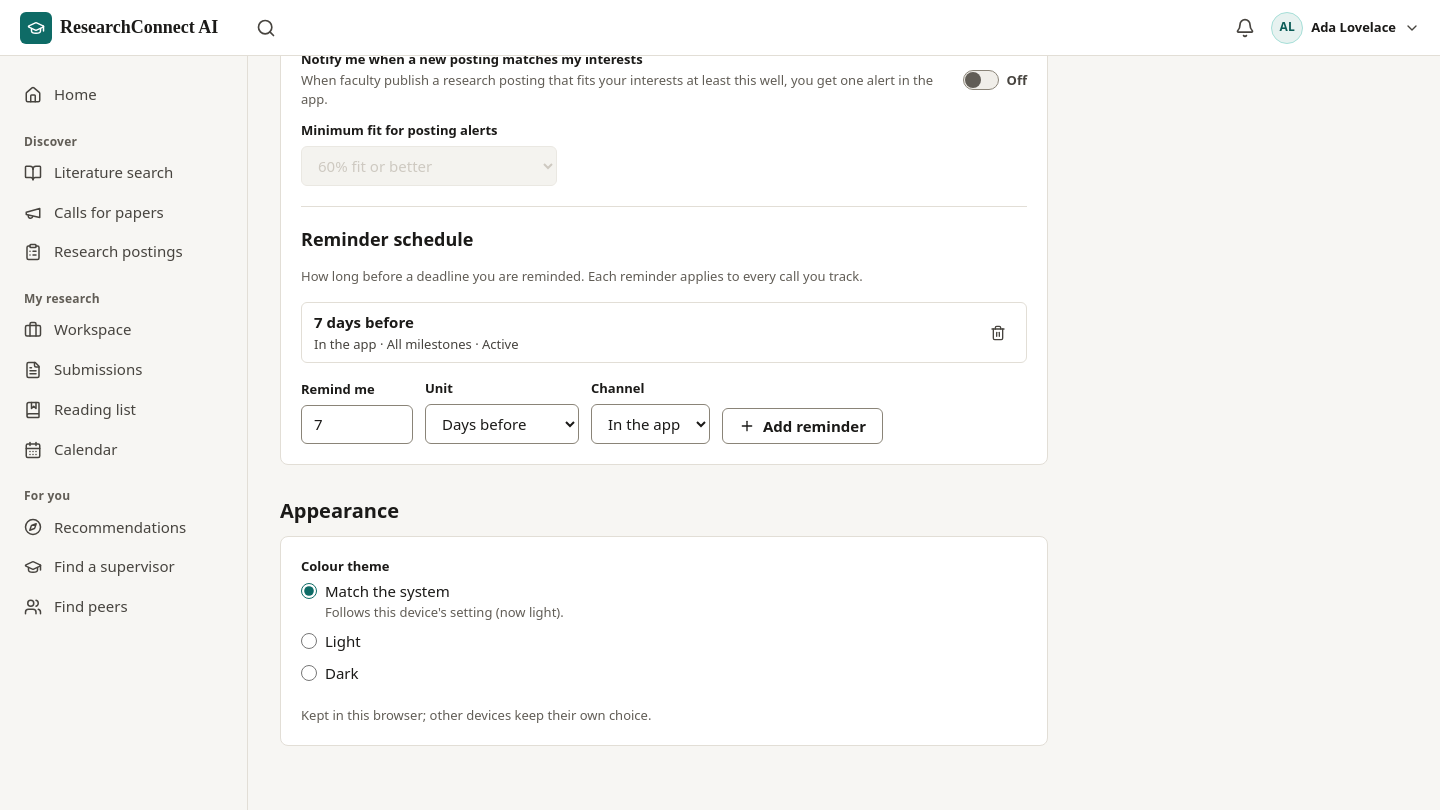
Test: appearance › applies light and dark at once, keeps the choice, and the account menu shows it
(page scrolled)
Check: the radio button labelled "Match the system Follows this device's setting (now light)." is checked, box 301,583 -> 317,599
Click the radio button labelled "Dark" at (309, 673), box 301,665 -> 317,681
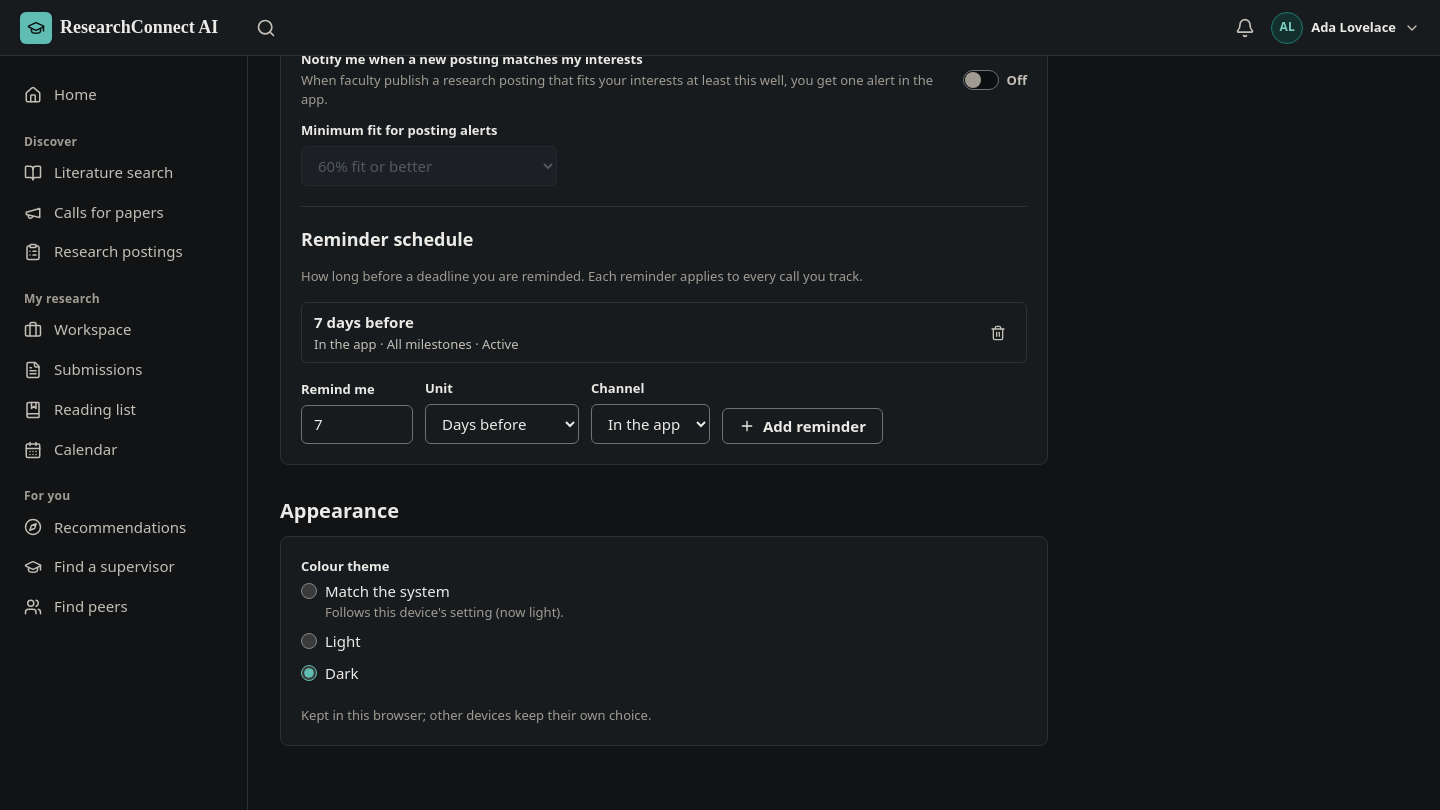
Note: The account menu's switch (mounted, closed) follows.
Click the button with aria-label "account menu" at (1346, 28), box 1267,10 -> 1424,46
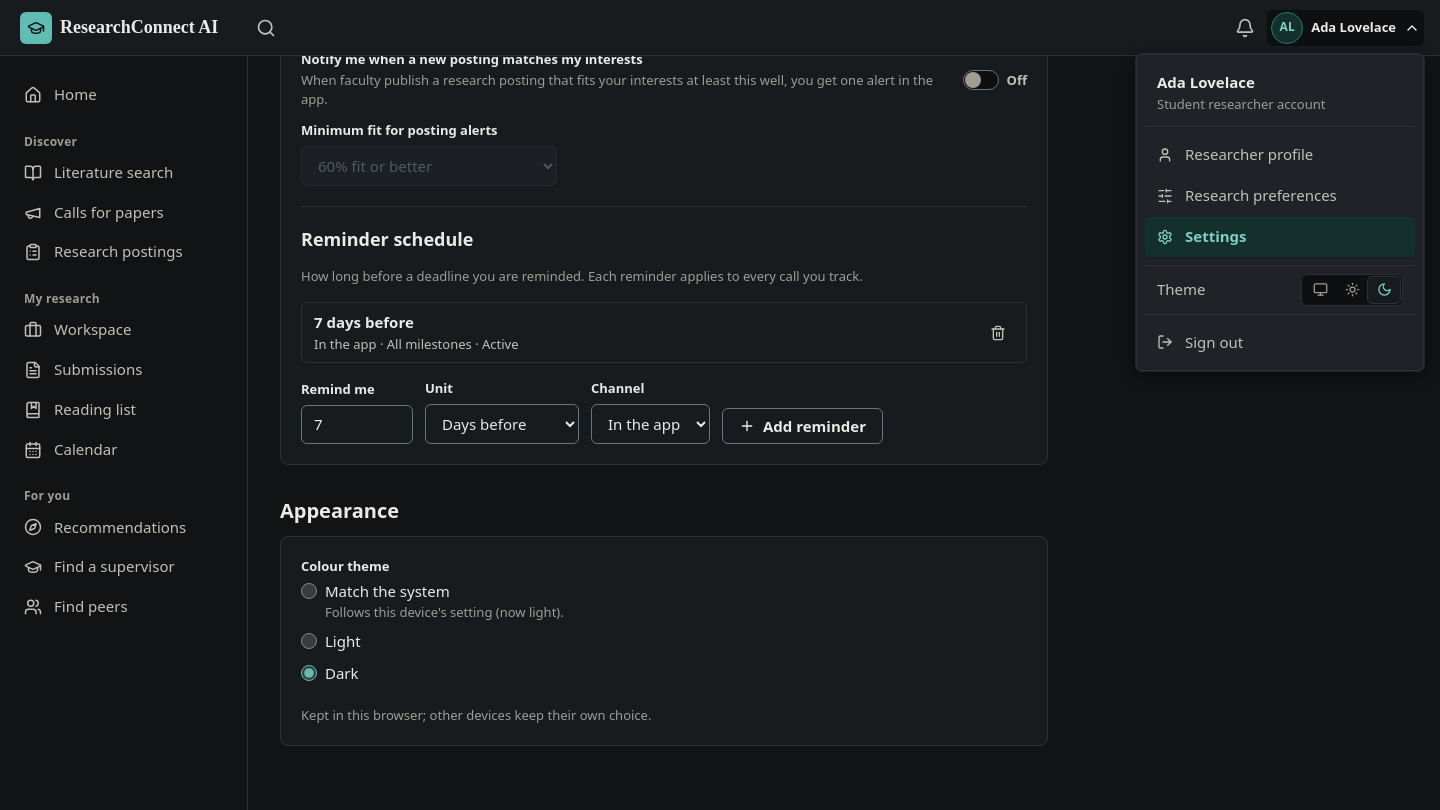
Check: the radio button named "Dark theme" is checked, box 1368,277 -> 1400,303
Click the radio button labelled "Light" at (309, 641), box 301,633 -> 317,649
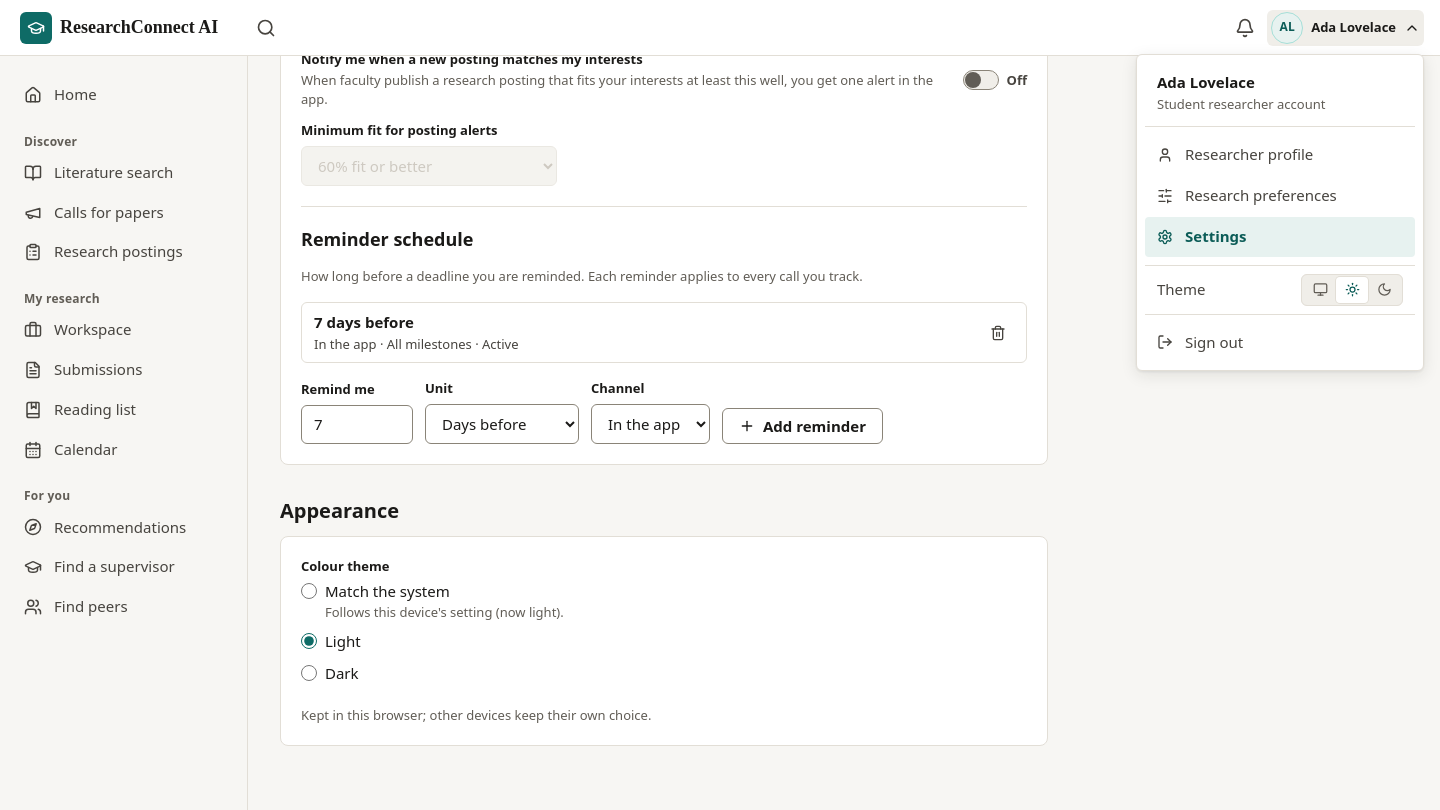
Check: the radio button named "Light theme" is checked, box 1336,277 -> 1368,303
